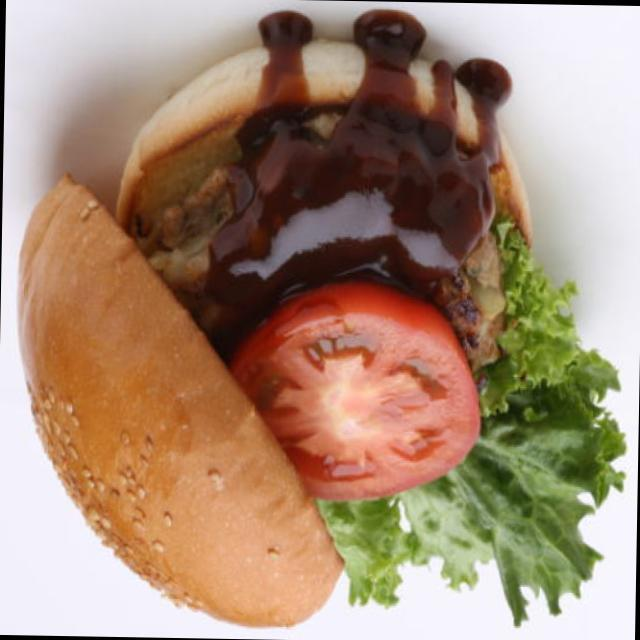Hamburger: (0, 0, 630, 640)
